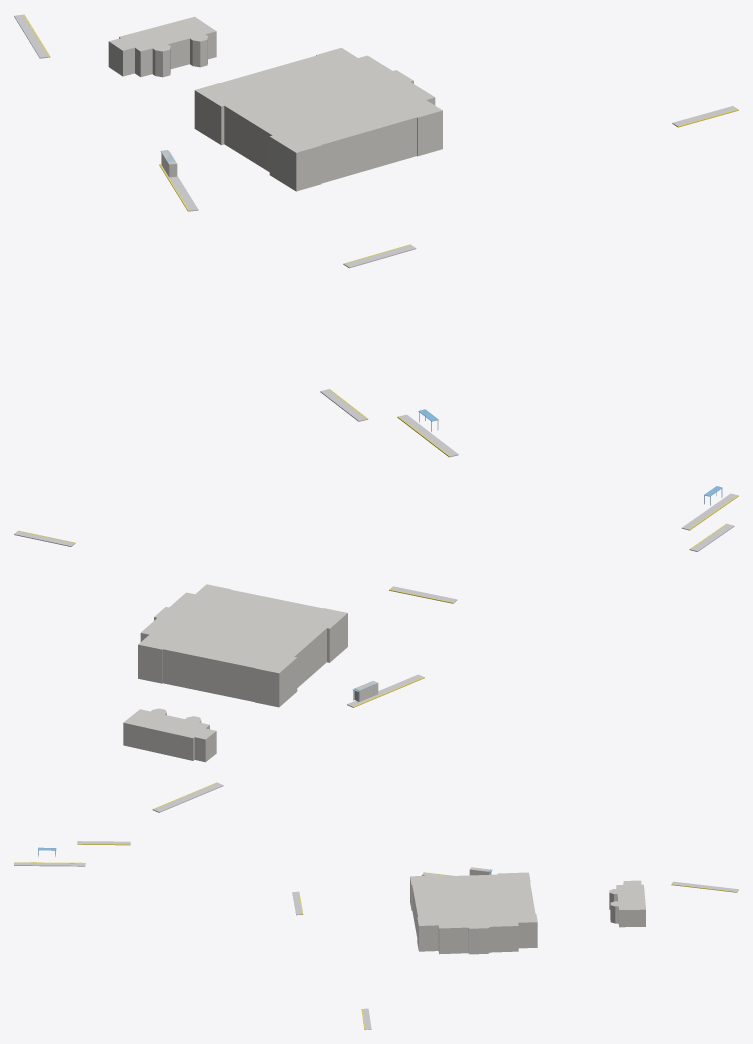
File: 8588988-bern-aegertenstrasse.glb
3 renders of one model, top to bottom at view 1: azimuth 30°, elevation 25°; view 2: azimuth 150°, elevation 25°; view 3: azimuth 270°, elevation 25°, orthographic. The views are drawn at different scales.
Parts seen in each view (by area): view 1: building_part@x, platform_body@0; view 2: building_part@x, platform_body@0, boarding_edge@0; view 3: building_part@x, platform_body@0, boarding_edge@0.
Part boxes in pixels (bbox=[...]): building_part@x: bbox=[108, 16, 442, 191]; platform_body@0: bbox=[14, 14, 737, 456]; building_part@x: bbox=[123, 584, 378, 762]; platform_body@0: bbox=[14, 493, 737, 812]; boarding_edge@0: bbox=[18, 495, 738, 809]; building_part@x: bbox=[410, 867, 645, 954]; platform_body@0: bbox=[14, 841, 738, 1029]; boarding_edge@0: bbox=[14, 843, 737, 1029].
Bounding box in the file's own units: 169 × 13.75 × 269.
